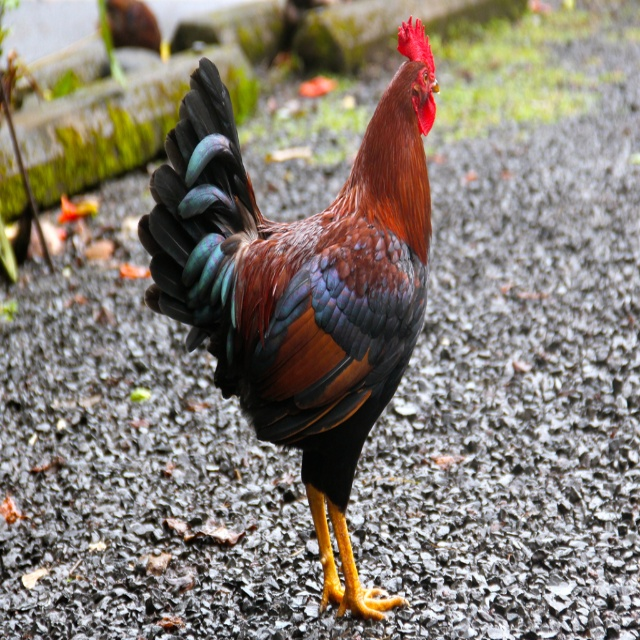Chicken: (132, 22, 446, 623)
